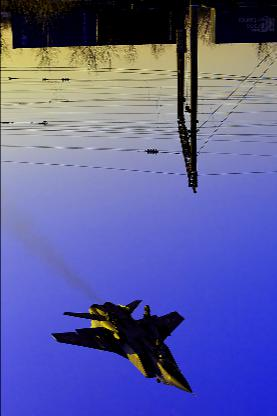Mig31: (51, 300, 197, 398)
